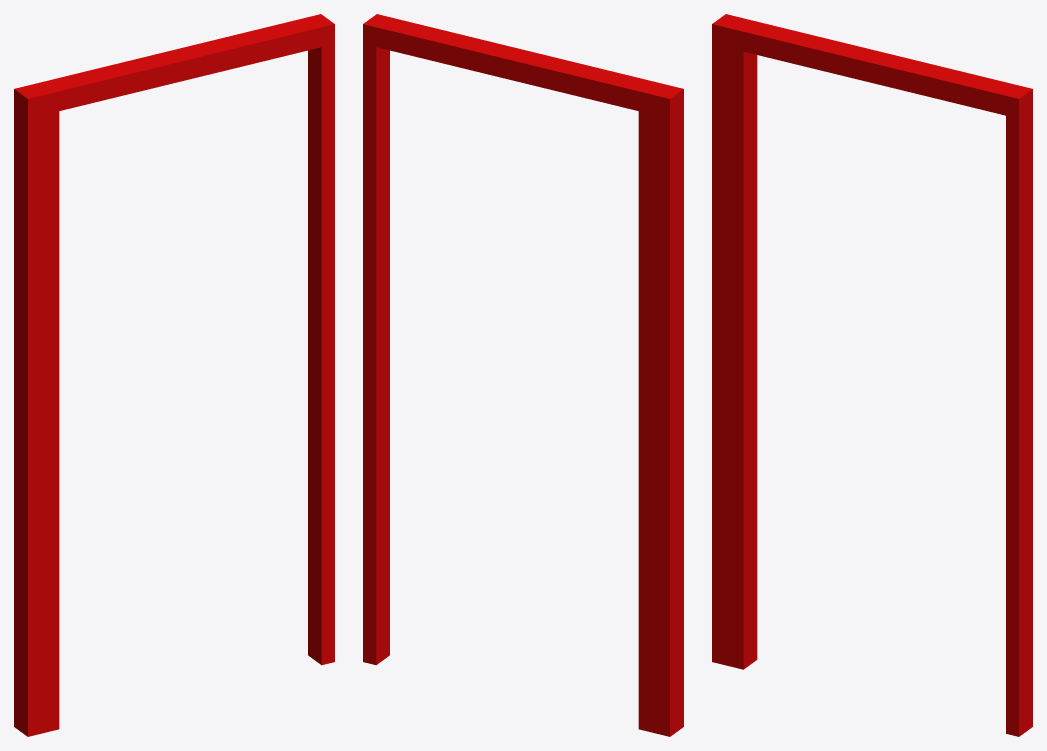
Rendered from SM_SingleDoorCFrameCollider.fbx.
3 renders of one model, left to right at view 1: azimuth 30°, elevation 25°; view 2: azimuth 150°, elevation 25°; view 3: azimuth 330°, elevation 25°, orthographic.
Parts seen in each view (by area): view 1: SingleDoorCFrameCollision; view 2: SingleDoorCFrameCollision; view 3: SingleDoorCFrameCollision.
Part boxes in pixels (x1=…): SingleDoorCFrameCollision: x1=14, y1=14, x2=334, y2=736; SingleDoorCFrameCollision: x1=363, y1=14, x2=683, y2=736; SingleDoorCFrameCollision: x1=712, y1=14, x2=1032, y2=736.
Size of the model in its own units: 125 by 248 by 9.73.
